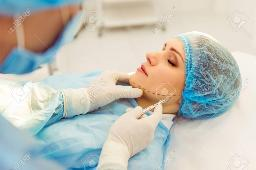scalpel: (141, 98, 171, 115)
